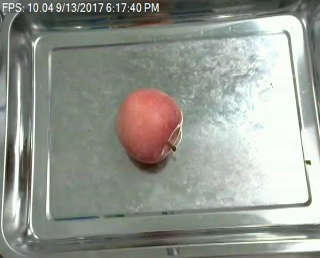Apple: (115, 87, 183, 164)
